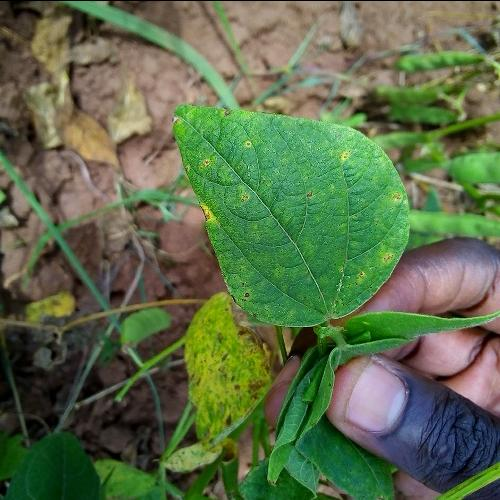mozaik: (197, 114, 411, 284)
